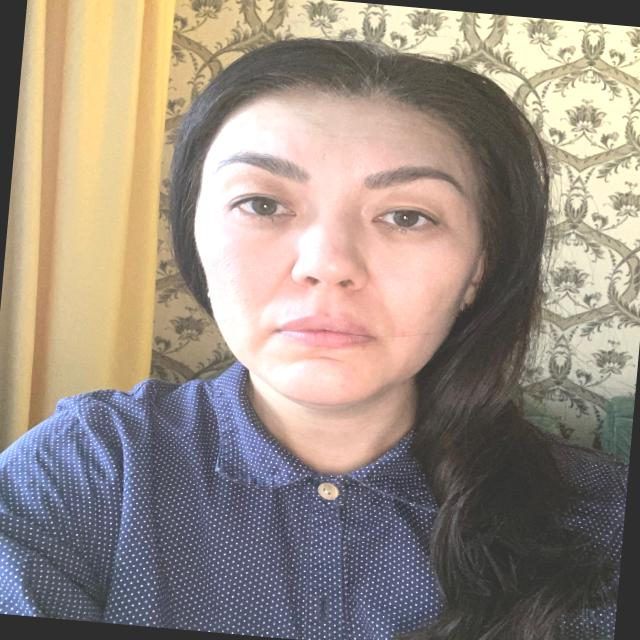eyebrow: (207, 151, 311, 184), (365, 165, 467, 194)
